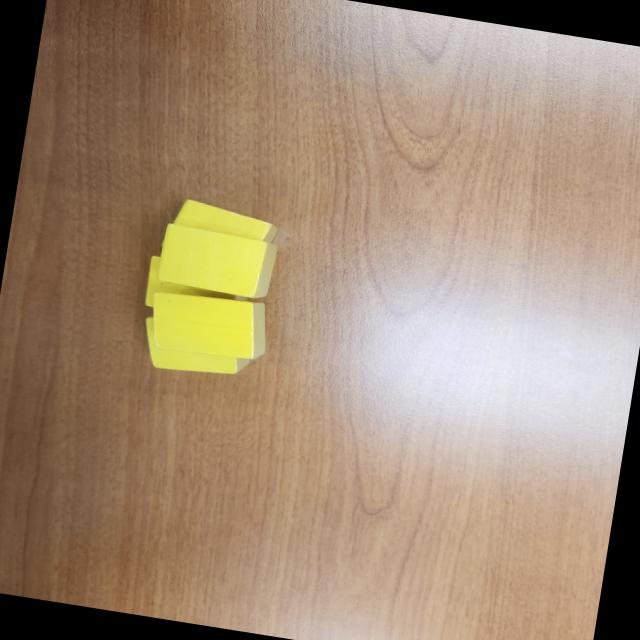yellow: (144, 285, 276, 366), (152, 222, 280, 302), (136, 314, 257, 384), (140, 255, 257, 323), (164, 196, 283, 244)
